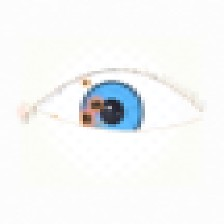foreign_body_visible: (39, 108, 69, 132)
